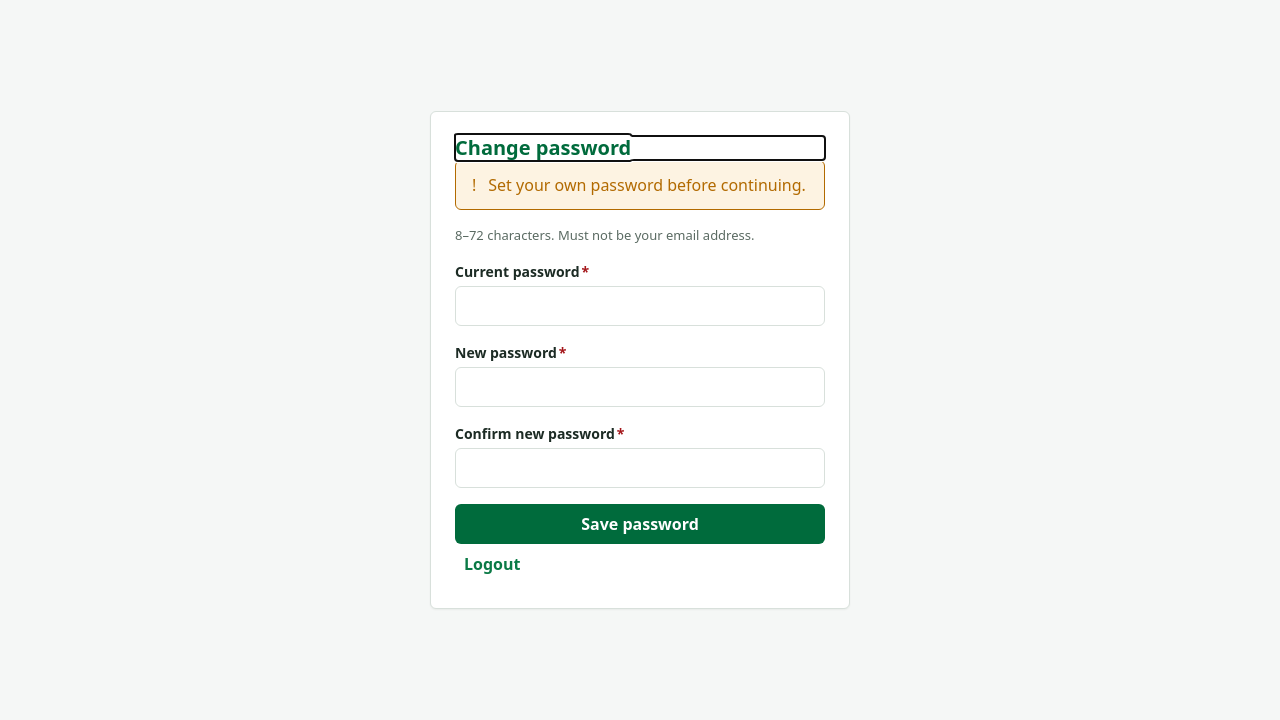
Test: UI-06 a mandatory change blocks the application (BR-02) › lets the user into the application once the password is saved
Expected: the text "Set your own password before continuing." is shown, [488,173,806,197]
Type "Toktickit#2026" into the password field labelled "Current password*" at (640, 306), box [455,286,825,326]
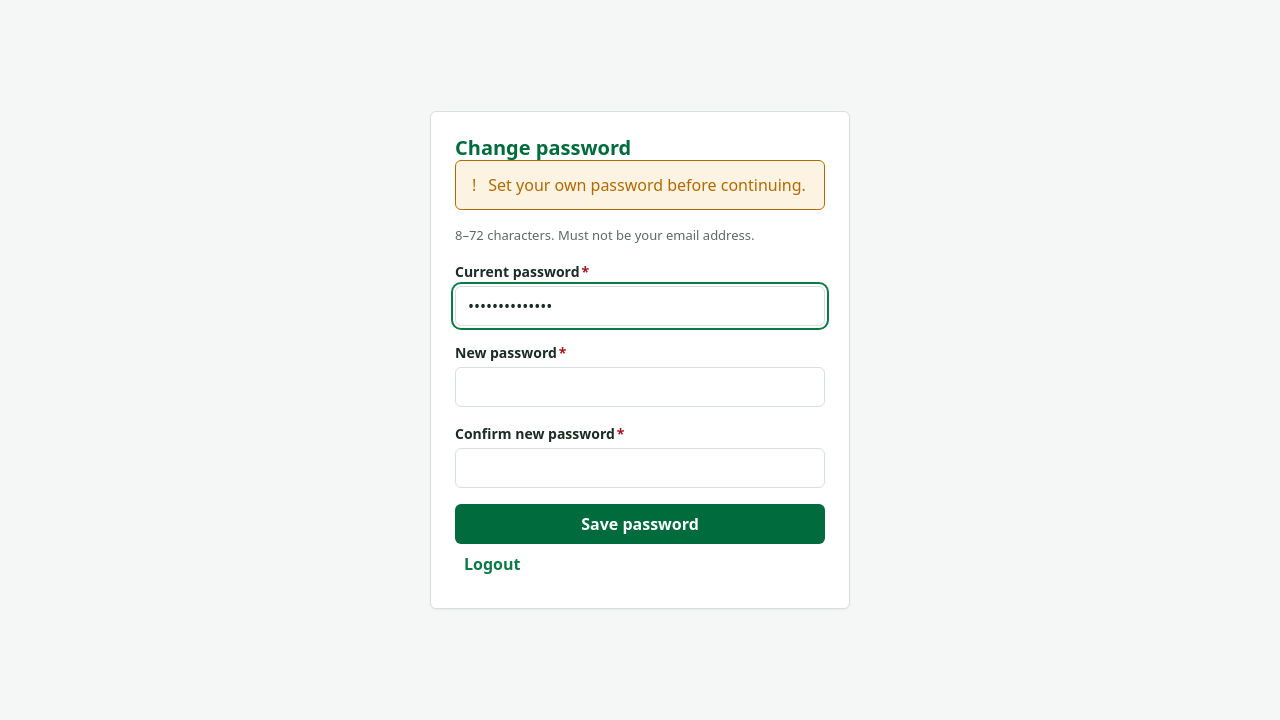
Type "Brand-new-horse-9" into the password field labelled "New password*" at (640, 387), box [455,367,825,407]
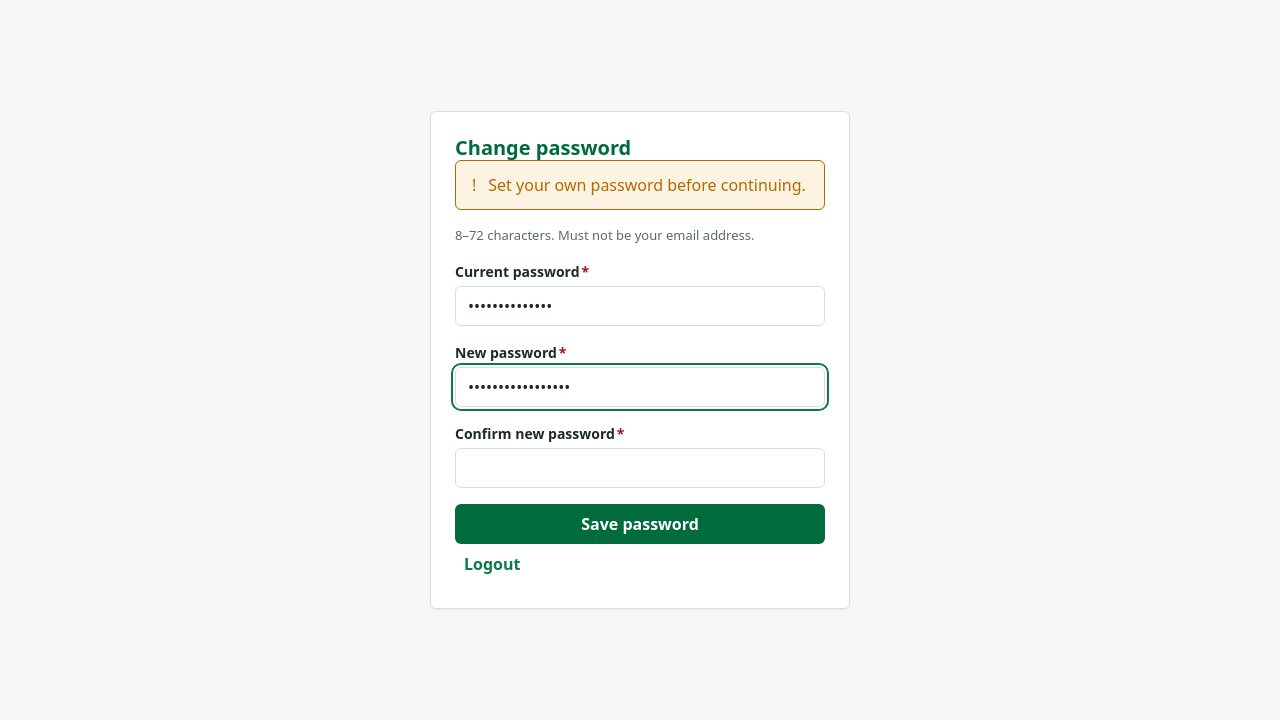
Type "Brand-new-horse-9" into the password field labelled "Confirm new password*" at (640, 468), box [455,448,825,488]
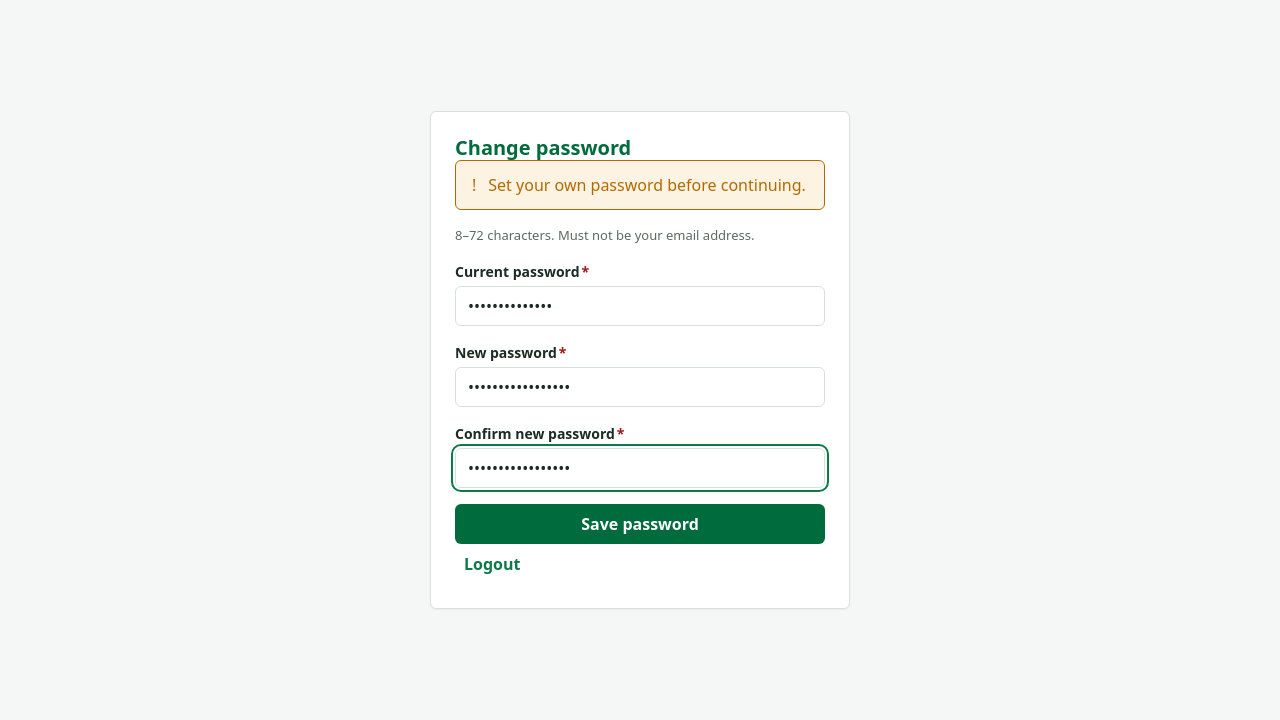
Click the button "Save password" at (640, 524), box [455,504,825,544]
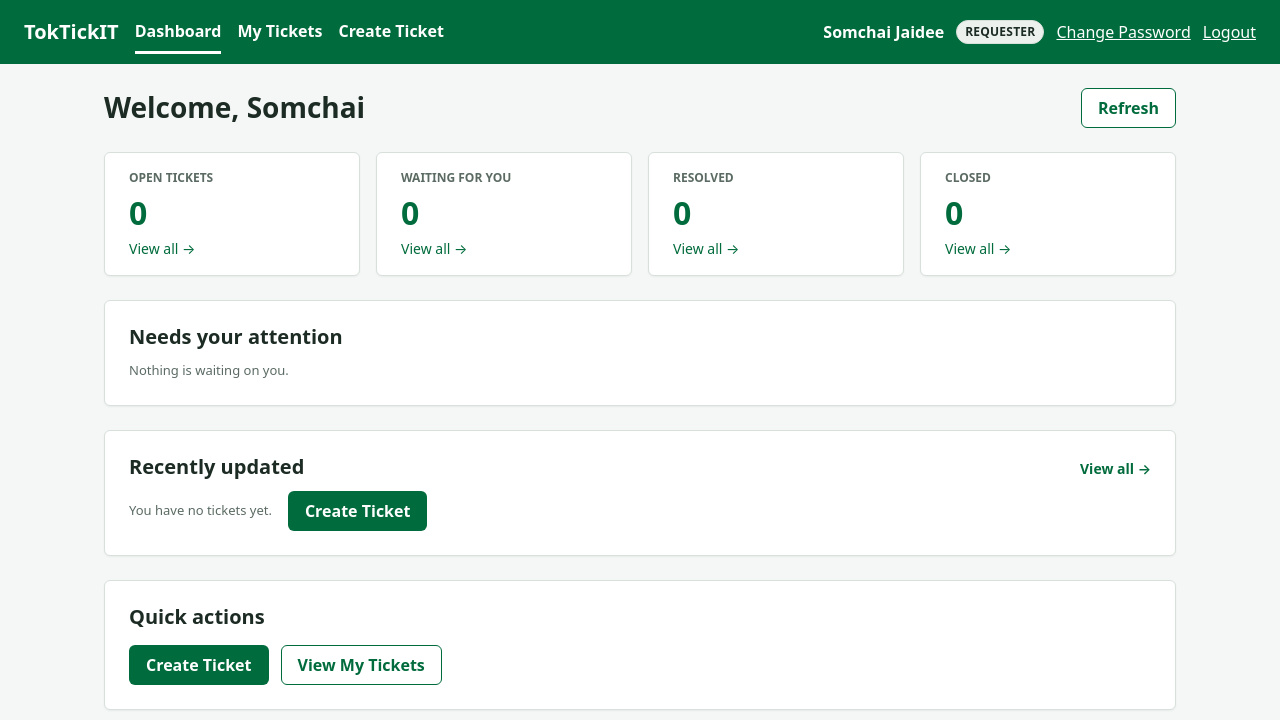
Now the heading "Welcome, Somchai" is shown, box [104,91,365,125]
Now the text with test id "current-user" reads "Somchai Jaidee", box [823,21,944,43]
